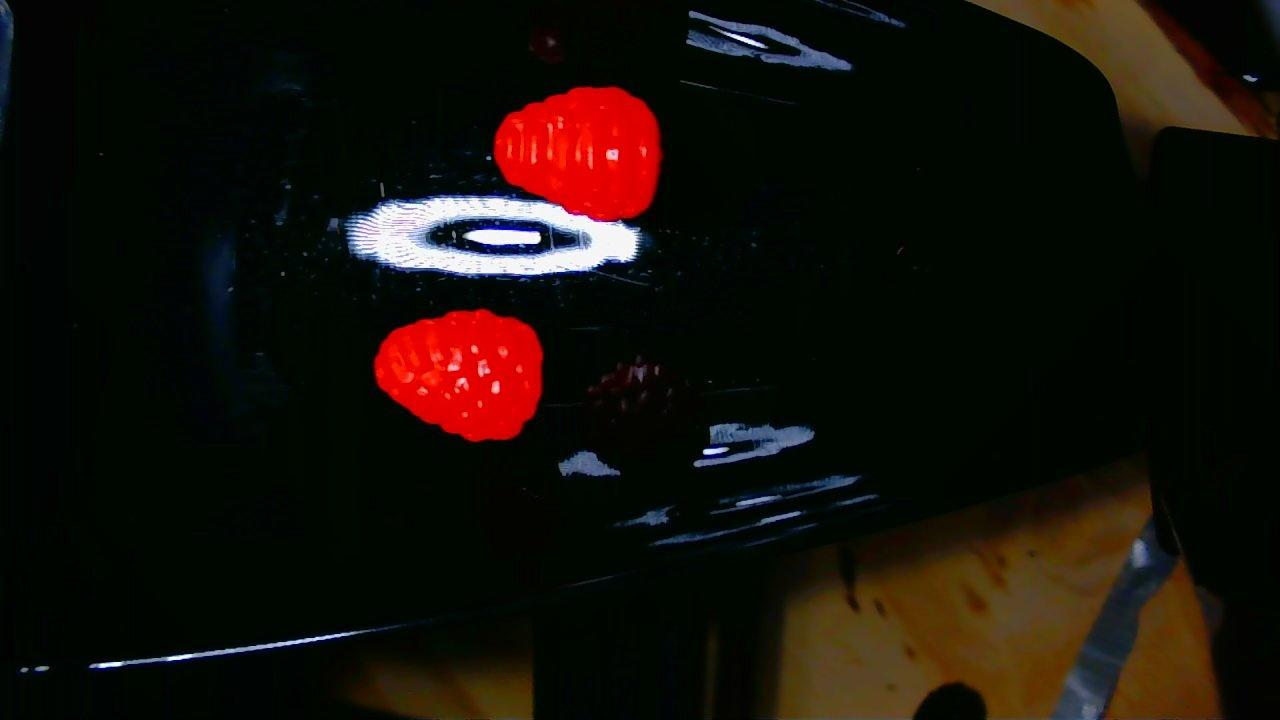berry: (493, 87, 661, 220), (374, 309, 542, 441)
